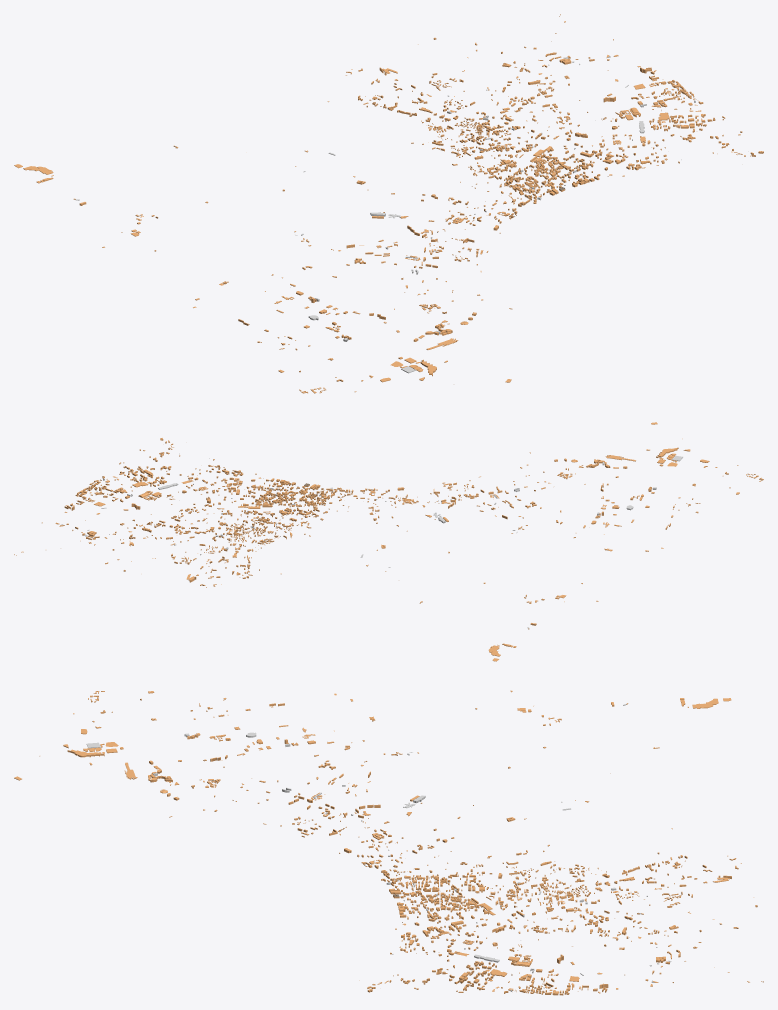
Rendered from nicebuildings.glb.
3 renders of one model, top to bottom at view 1: azimuth 30°, elevation 25°; view 2: azimuth 150°, elevation 25°; view 3: azimuth 270°, elevation 25°, orthographic. The views are drawn at different scales.
Size of the model in its own units: 8980 by 257 by 9326.
